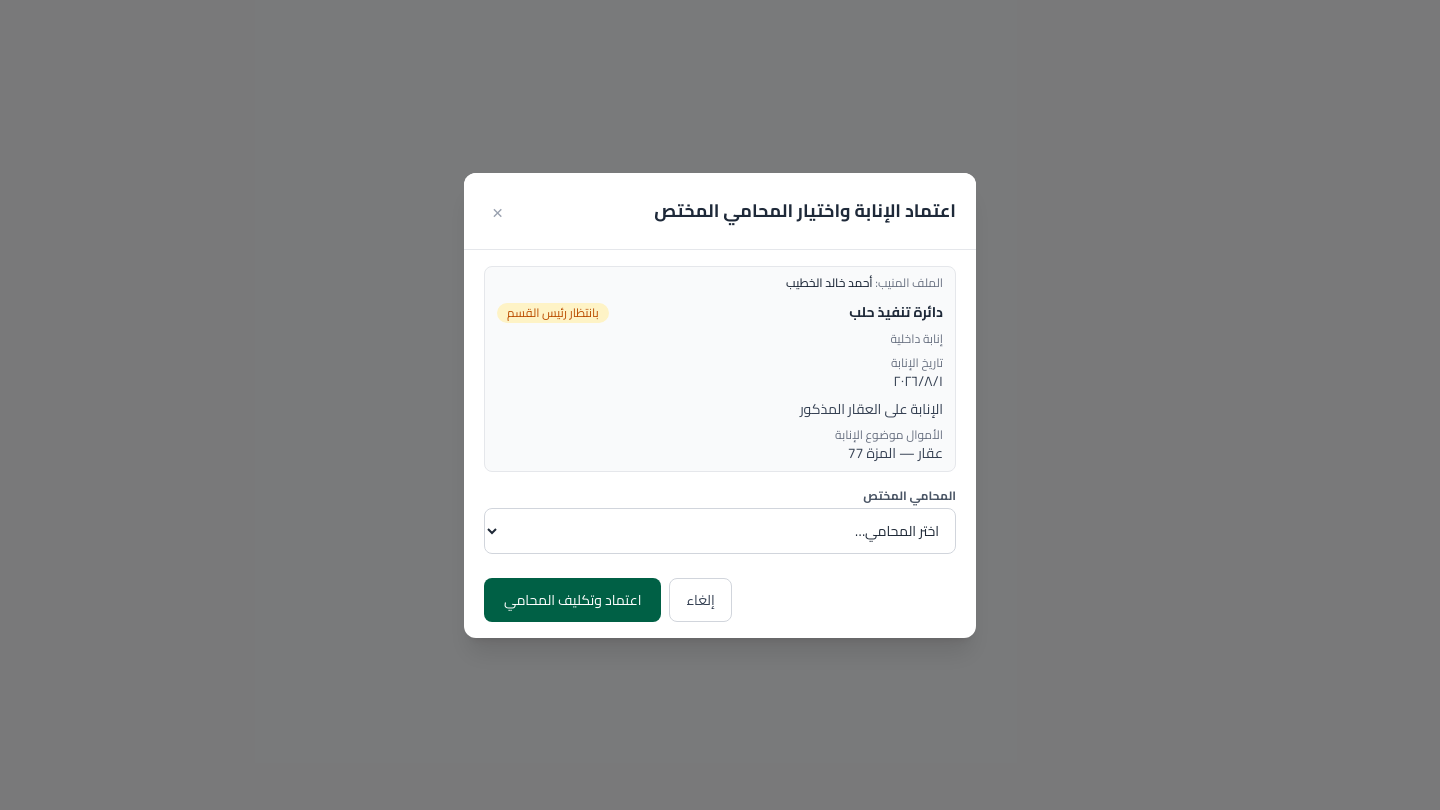
Test: AssignDelegationModal › يمنع الاعتماد دون اختيار محامٍ
This screenshot has width=1440, height=810.
Click the button "اعتماد وتكليف المحامي" at (573, 600), box left=484, top=578, right=661, bottom=622
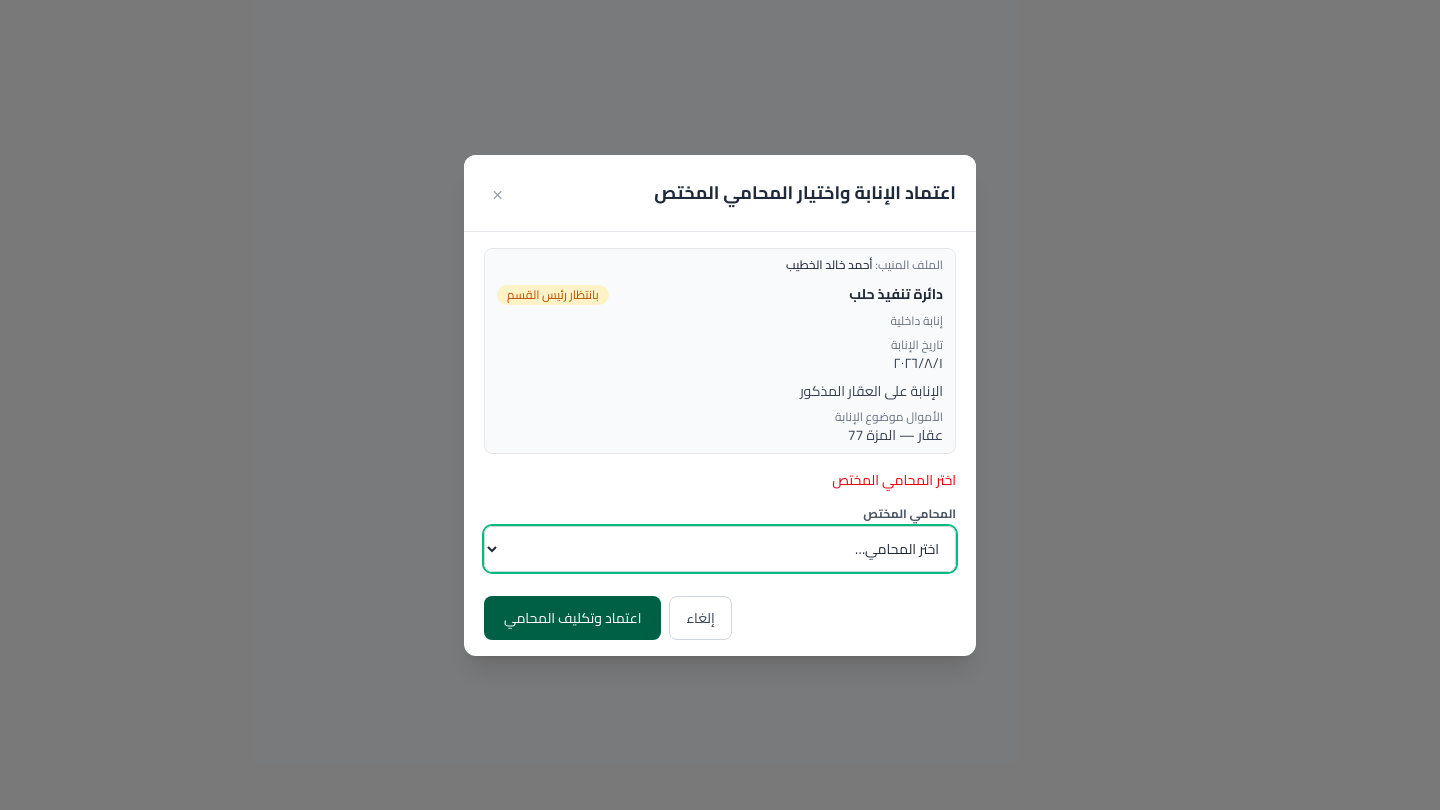
Check: the message reads "اختر المحامي المختص", box left=832, top=466, right=956, bottom=492
